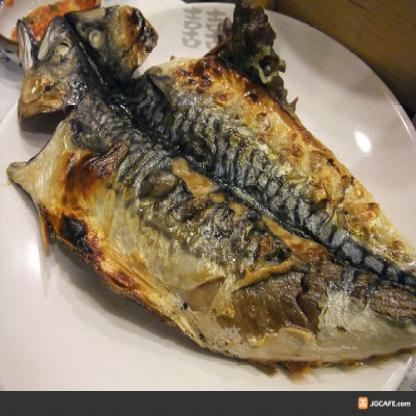Peixe: (0, 3, 416, 368)
